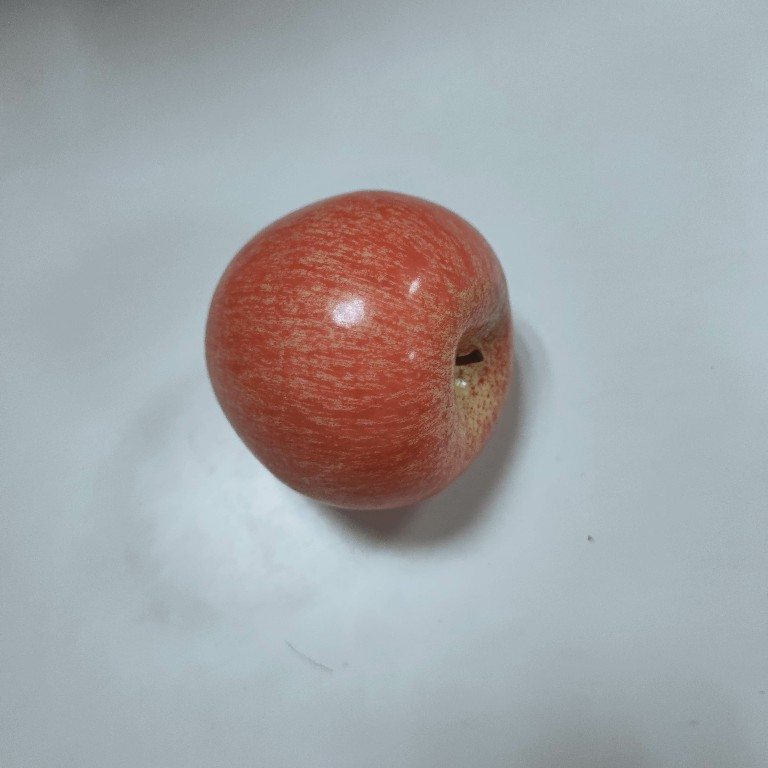fruit_apple: (199, 185, 521, 516)
